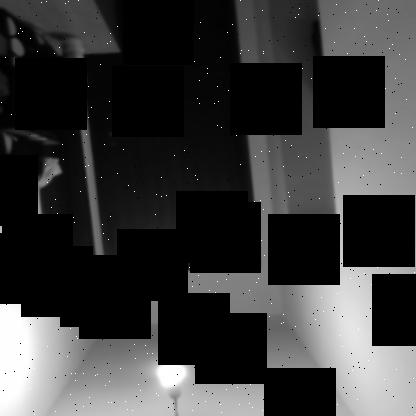Porte: (80, 0, 262, 276)
